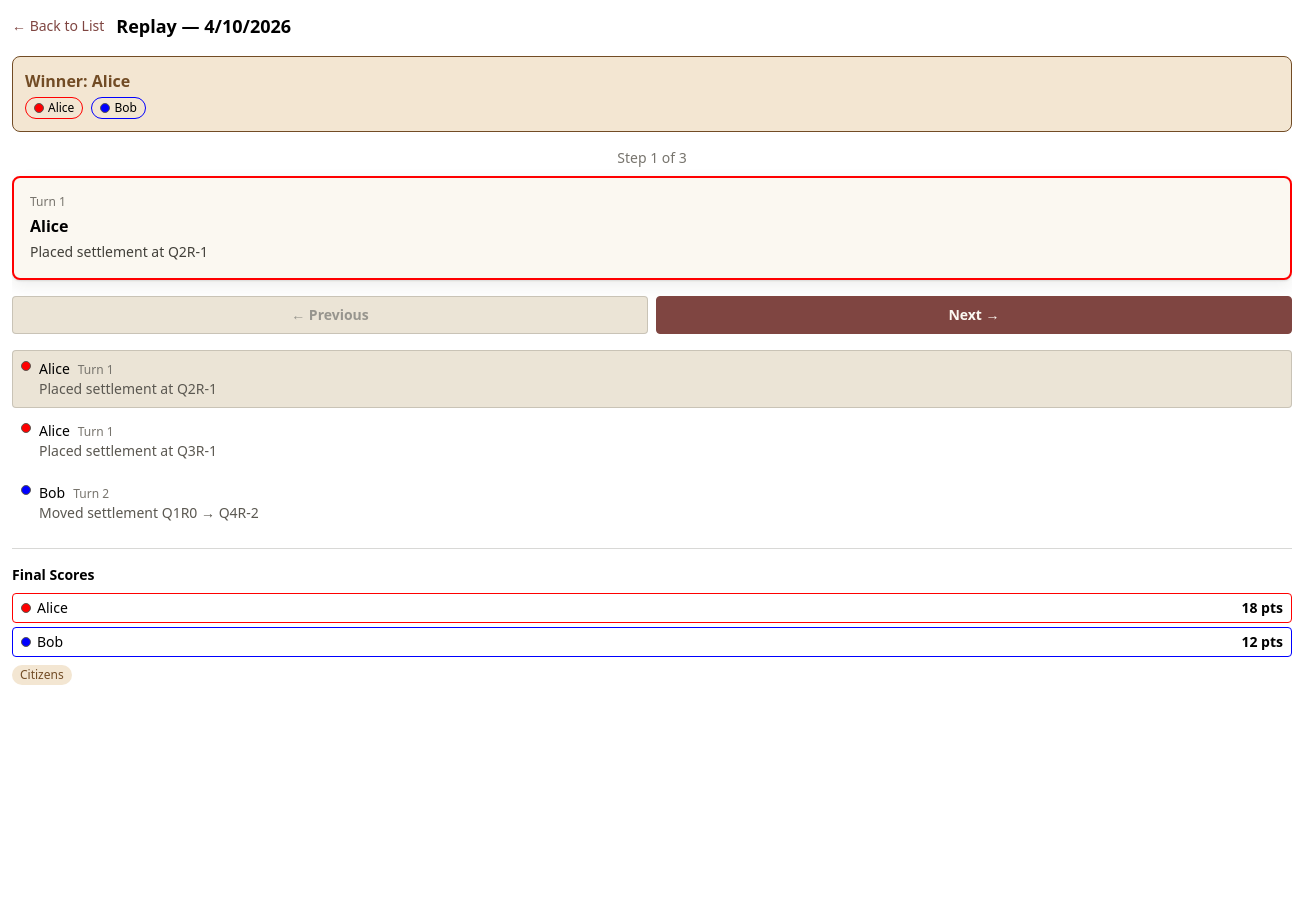
ReplayViewer › clicking Next advances to step 2
The width and height of the screenshot is (1304, 912).
Click the button "Next →" at (974, 315), box [656,296,1292,334]
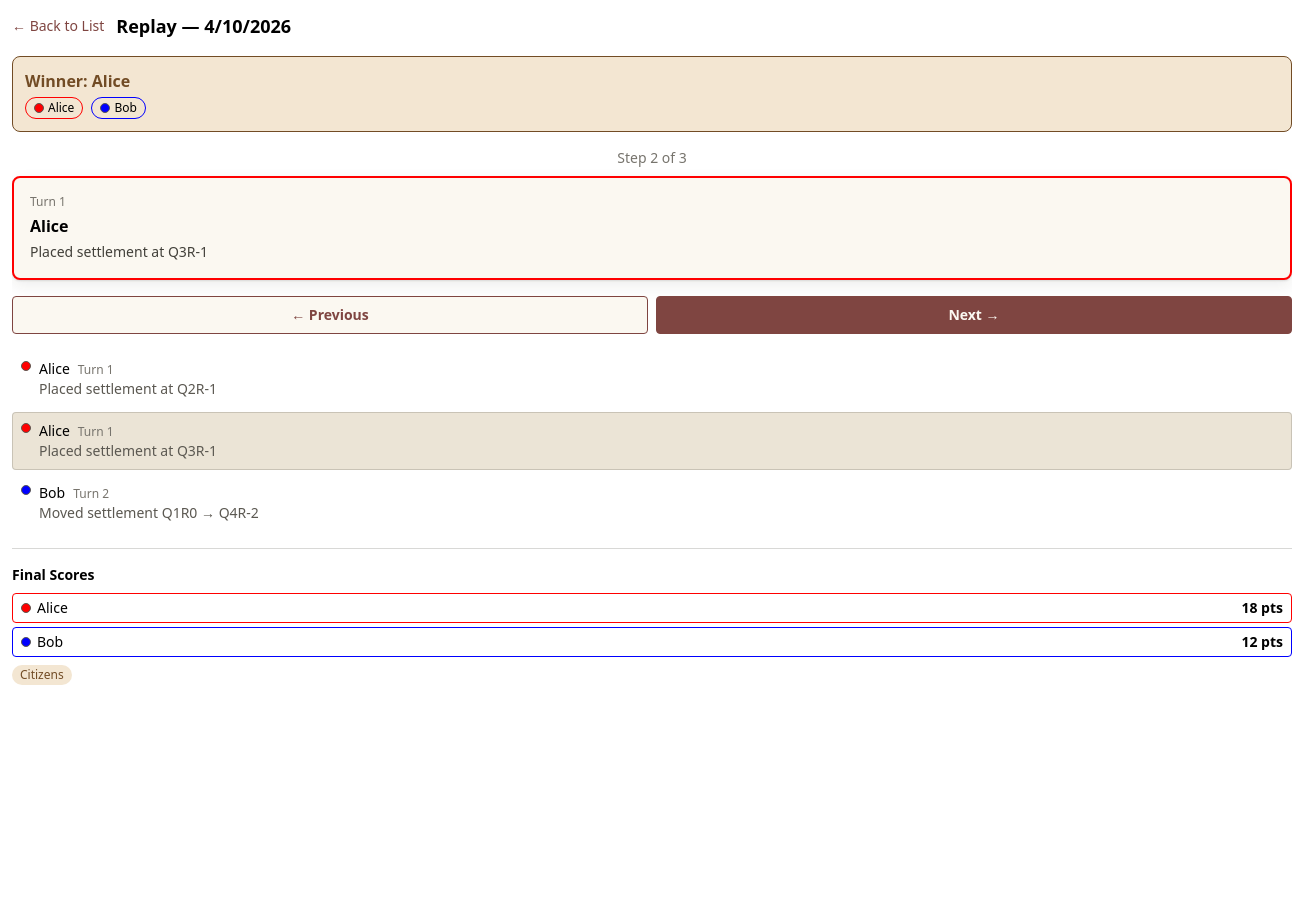
Expected: the text "Step 2 of 3" is shown, [617,148,687,167]
